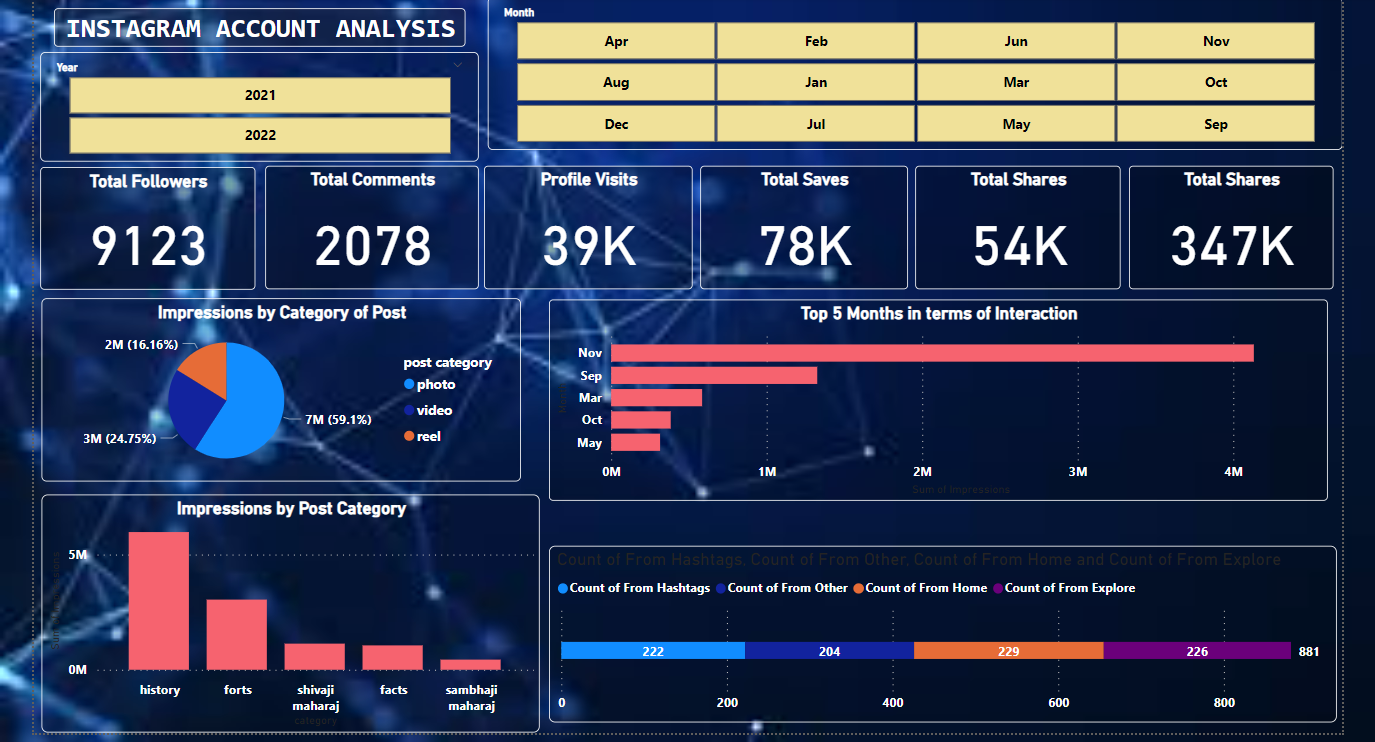

What the dashboard file says about the page in this screenshot:
{"tool":"powerbi","page":{"name":"Page 1","canvas":[1280,720],"ordinal":0},"visuals":[{"type":"slicer","fields":{"Values":["My Instagram data.Year"]},"box":[6.1,54,428.5,107.5],"z":0},{"type":"slicer","fields":{"Values":["My Instagram data.Month"]},"box":[443.7,0,835.8,149.9],"z":1000},{"type":"card","title":"Total Followers","fields":{"Values":["My Instagram data.Follows"]},"box":[6.1,166,210.5,120],"z":2000},{"type":"card","title":"Total Comments","fields":{"Values":["My Instagram data.Comments"]},"box":[225.6,165,209,121.1],"z":3000},{"type":"card","title":"Profile Visits","fields":{"Values":["My Instagram data.Profile Visits"]},"box":[440.6,165,204,121],"z":4000},{"type":"card","title":"Total Saves","fields":{"Values":["My Instagram data.Saves"]},"box":[651.1,165,203,121],"z":5000},{"type":"card","title":"Total Shares","fields":{"Values":["My Instagram data.Shares"]},"box":[861.6,165,201,121],"z":6000},{"type":"card","title":"Total Shares","fields":{"Values":["My Instagram data.Likes"]},"box":[1070.5,165,200,121],"z":7000},{"type":"columnChart","title":"Impressions by Post Category","fields":{"Y":["My Instagram data.Impressions"],"Category":["My Instagram data.category"]},"box":[7.6,486.1,487.6,233.2],"z":8000},{"type":"pieChart","title":"Impressions by Category of Post","fields":{"Y":["My Instagram data.Impressions"],"Category":["My Instagram data.post category"]},"box":[7,295,469,179],"z":9000},{"type":"barChart","fields":{"Y":["My Instagram data.From Hashtags","My Instagram data.From Other","My Instagram data.From Home","My Instagram data.From Explore"]},"box":[504.2,536,770.7,172.6],"z":10000},{"type":"clusteredBarChart","title":"Top 5 Months in terms of Interaction","fields":{"Y":["My Instagram data.Impressions"],"Category":["My Instagram data.Month"]},"box":[504.2,295.3,761.6,197],"z":11000},{"type":"textbox","title":"INSTAGRAM ACCOUNT ANALYSIS","box":[19.7,10.6,402.8,37.9],"z":12000}]}

Visuals, with their boxes in screenshot pixels (x1, y1, x2, y2):
slicer - My Instagram data.Year: <box>38,58,473,168</box>
slicer - My Instagram data.Month: <box>483,4,1331,156</box>
"Total Followers" card: <box>38,172,252,294</box>
"Total Comments" card: <box>261,171,473,294</box>
"Profile Visits" card: <box>480,171,687,294</box>
"Total Saves" card: <box>693,171,899,294</box>
"Total Shares" card: <box>907,171,1111,294</box>
"Total Shares" card: <box>1119,171,1322,294</box>
"Impressions by Post Category" columnChart: <box>40,497,535,734</box>
"Impressions by Category of Post" pieChart: <box>39,303,515,485</box>
barChart - My Instagram data.From Hashtags x My Instagram data.From Other: <box>544,548,1327,723</box>
"Top 5 Months in terms of Interaction" clusteredBarChart: <box>544,303,1317,503</box>
"INSTAGRAM ACCOUNT ANALYSIS" textbox: <box>52,14,461,53</box>
